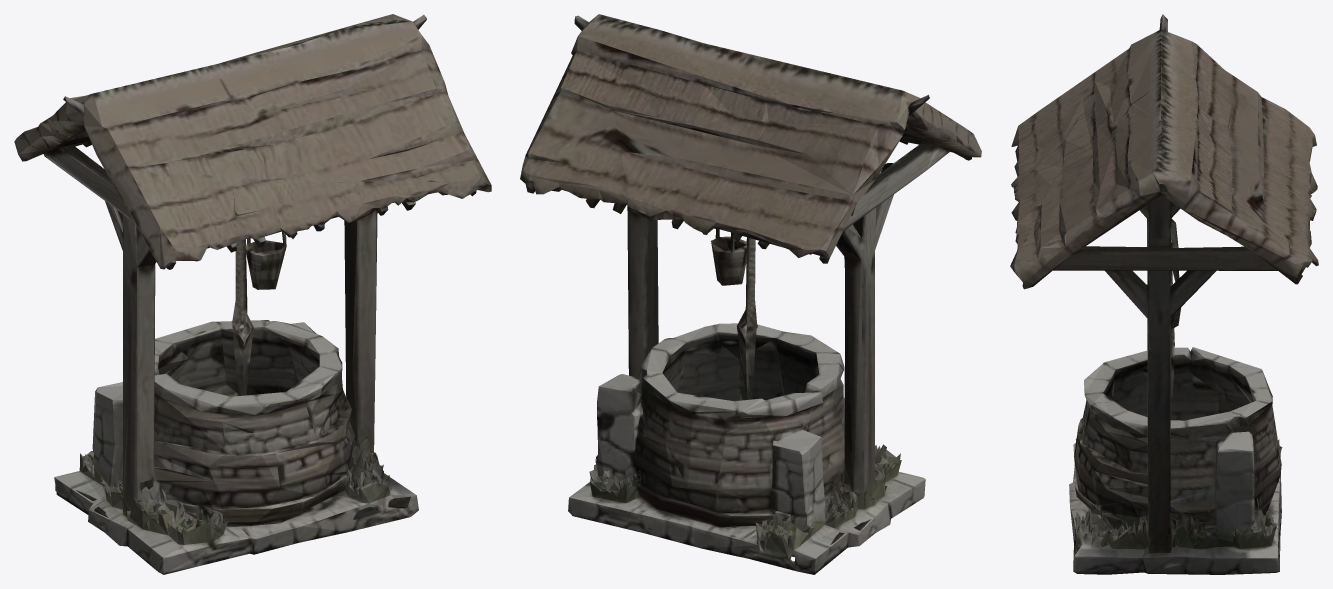
File: war_well_01.glb
3 renders of one model, left to right at view 1: azimuth 30°, elevation 25°; view 2: azimuth 150°, elevation 25°; view 3: azimuth 270°, elevation 25°, orthographic. The views are drawn at different scales.
Parts seen in each view (by area): view 1: geometry_0; view 2: geometry_0; view 3: geometry_0.
Boxes of the visible parts, x1=… form: geometry_0: x1=14, y1=14, x2=491, y2=574; geometry_0: x1=520, y1=14, x2=981, y2=574; geometry_0: x1=1010, y1=14, x2=1318, y2=574.
Size of the model in its own units: 0.8209 by 0.9977 by 0.658.
Materials: 1 (1 with a texture image).
